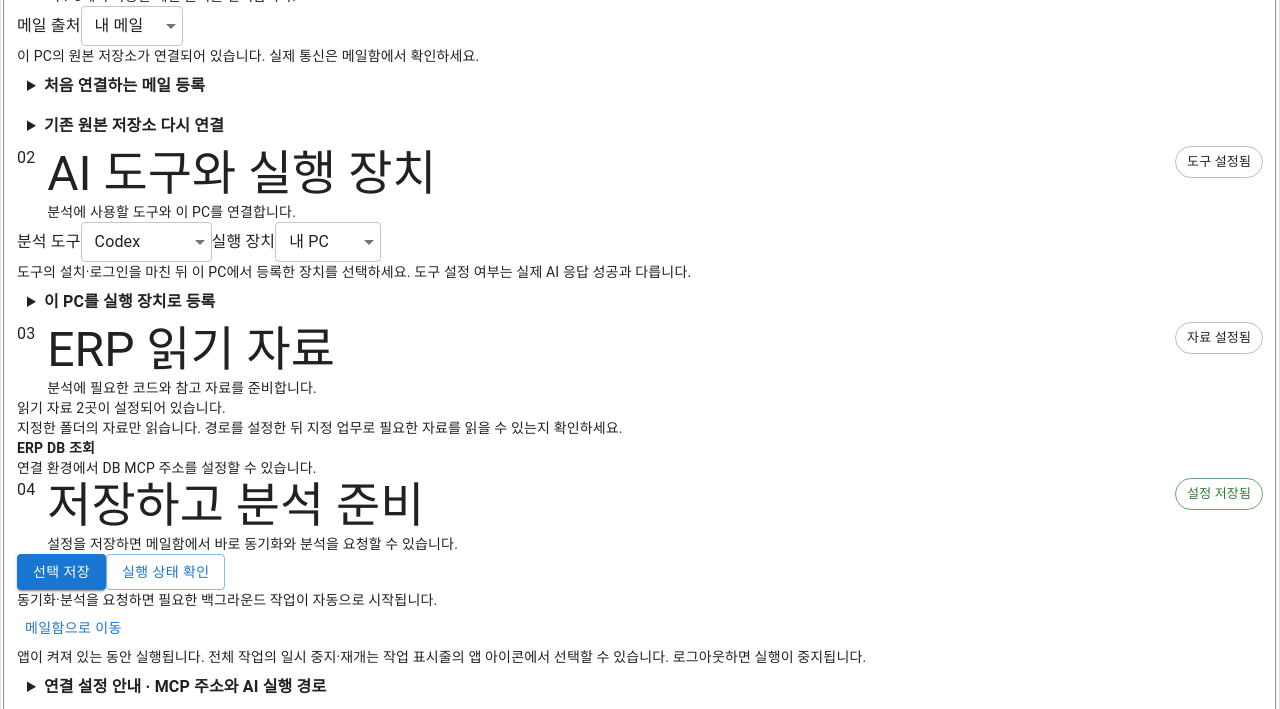
Test: unsaved selection invalidates runtime evidence; removed management controls never load
(page scrolled)
Expected: the dropdown labelled "메일 출처" shows "내 메일", [81,6,183,46]
Click the button "실행 상태 확인" at (166, 572), box [106,554,226,590]
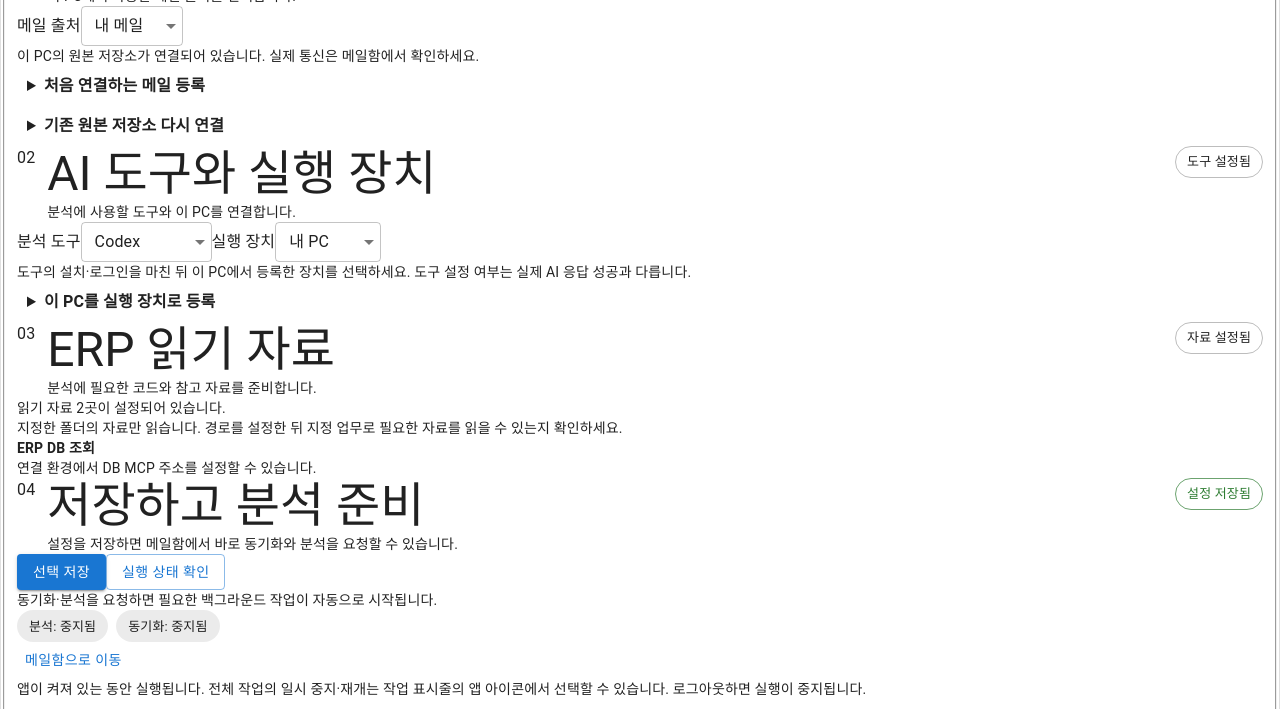
Now the text "분석: 중지됨" is shown, box [29,618,96,634]
Select "공유 메일" in the dropdown labelled "메일 출처" at (132, 26), box [81,6,183,46]
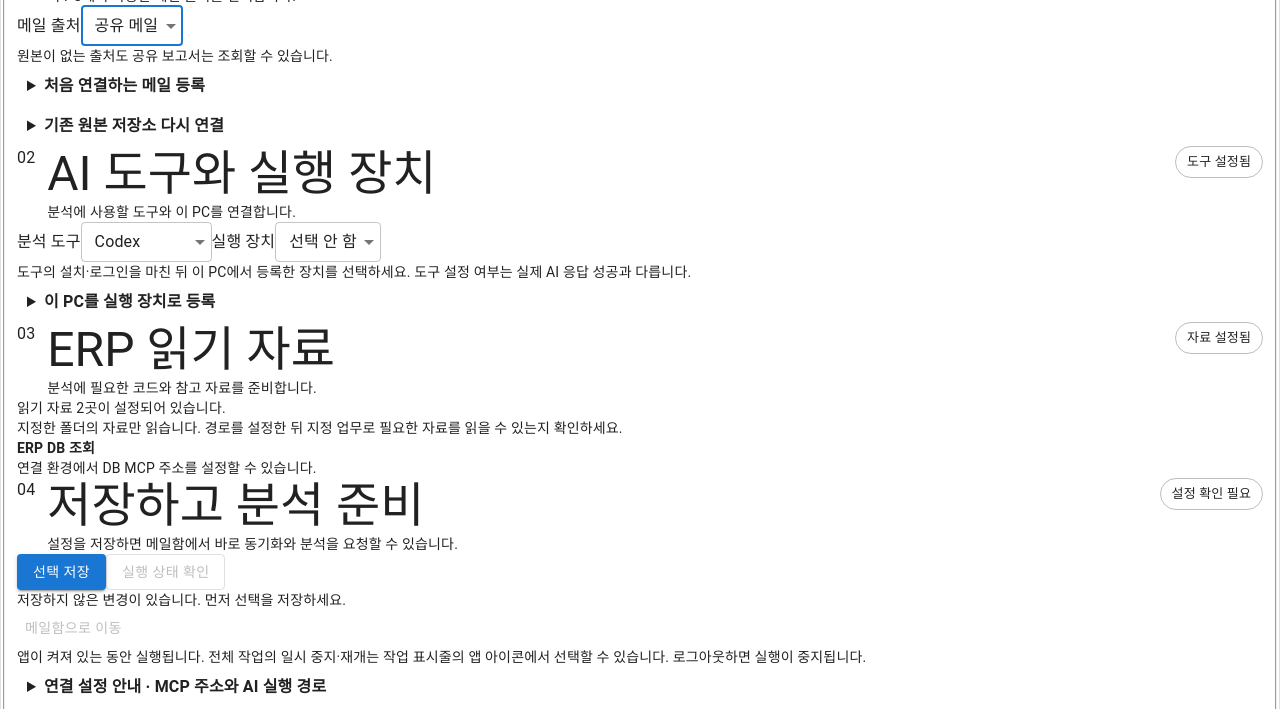
Now the button "실행 상태 확인" is disabled, box [106,554,226,590]
Now the text "분석: 중지됨" is gone
